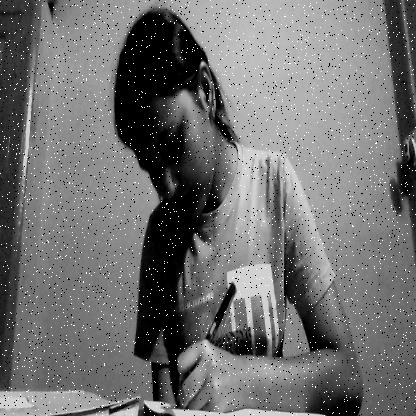Distracted: (124, 57, 214, 224)
